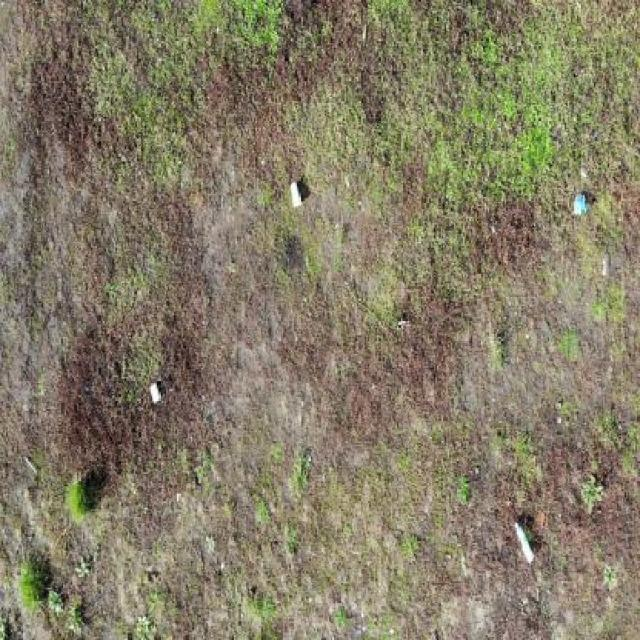Garbage: (514, 521, 534, 565), (289, 180, 302, 209), (572, 192, 587, 215), (149, 380, 162, 402)
